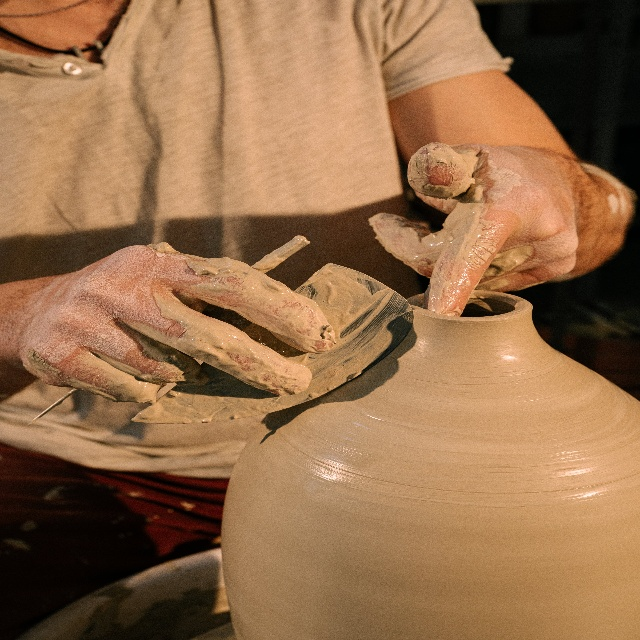Sin_guantes: (21, 241, 335, 403), (369, 134, 638, 309)
